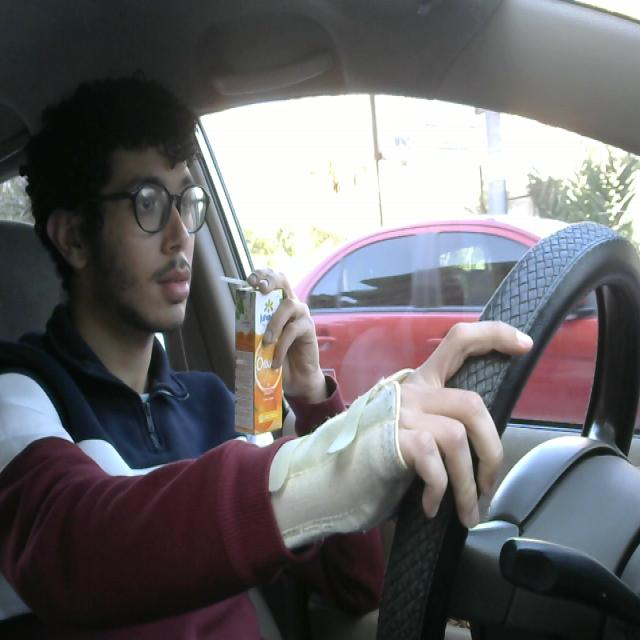drinking: (215, 266, 286, 438)
